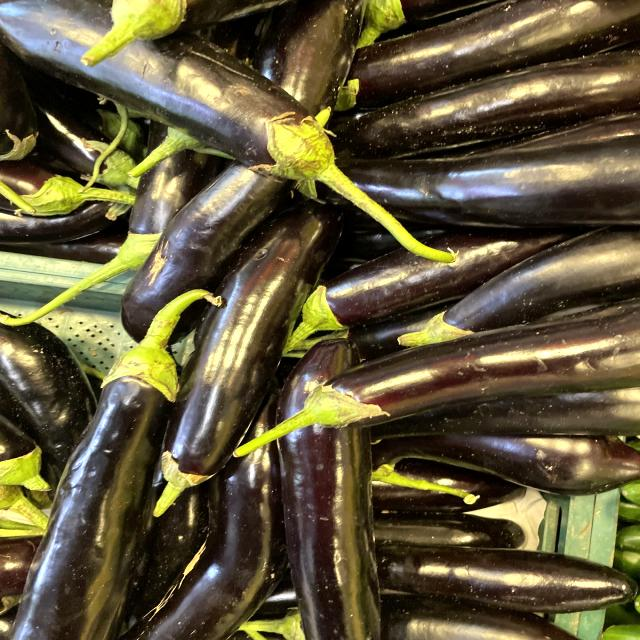eggplant: (0, 0, 471, 259), (128, 194, 351, 519), (217, 302, 640, 471)
